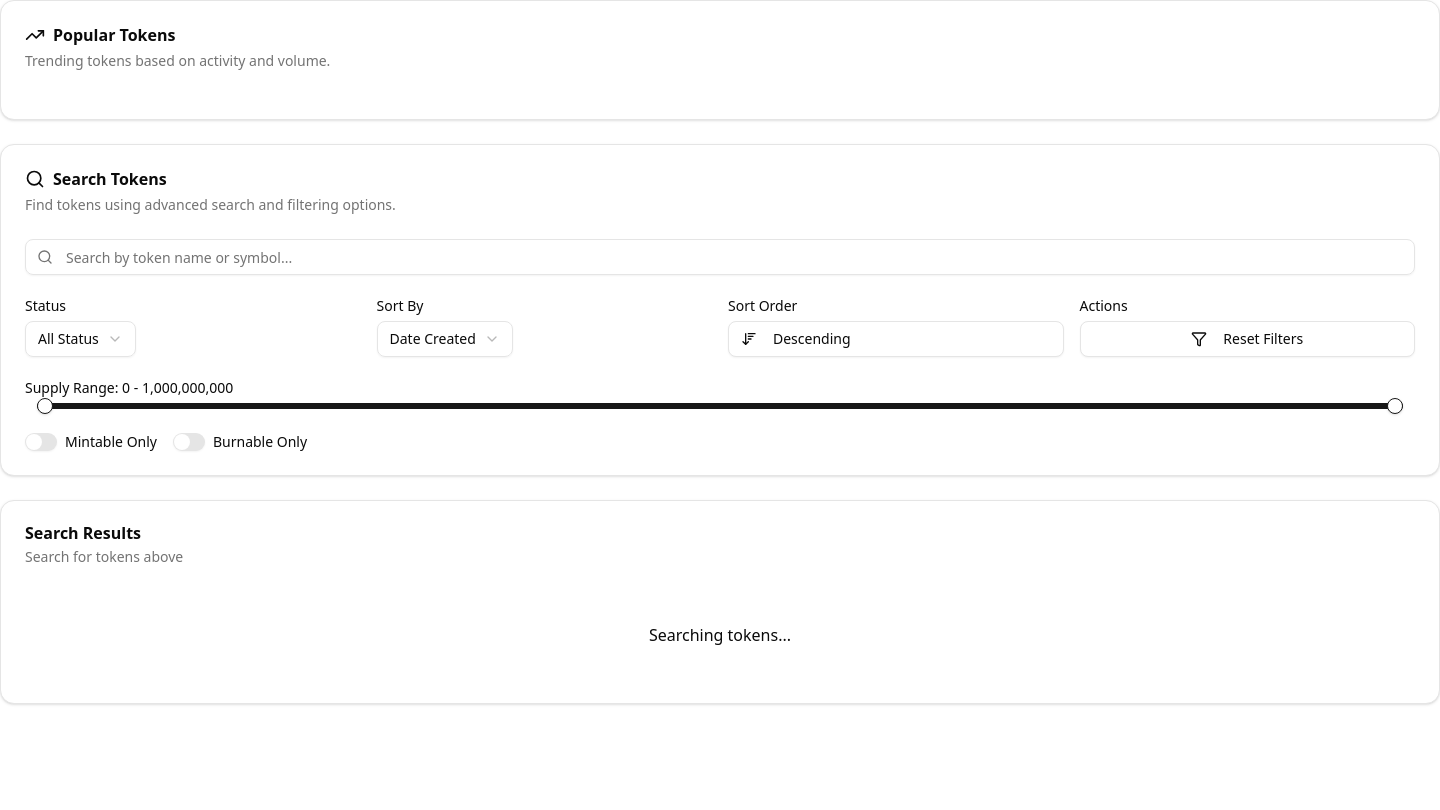
TokenSearch Component › should display search results
Type "Search" into the field with placeholder "Search by token name or symbol...". click: (720, 257)
box: [25,239,1415,275]
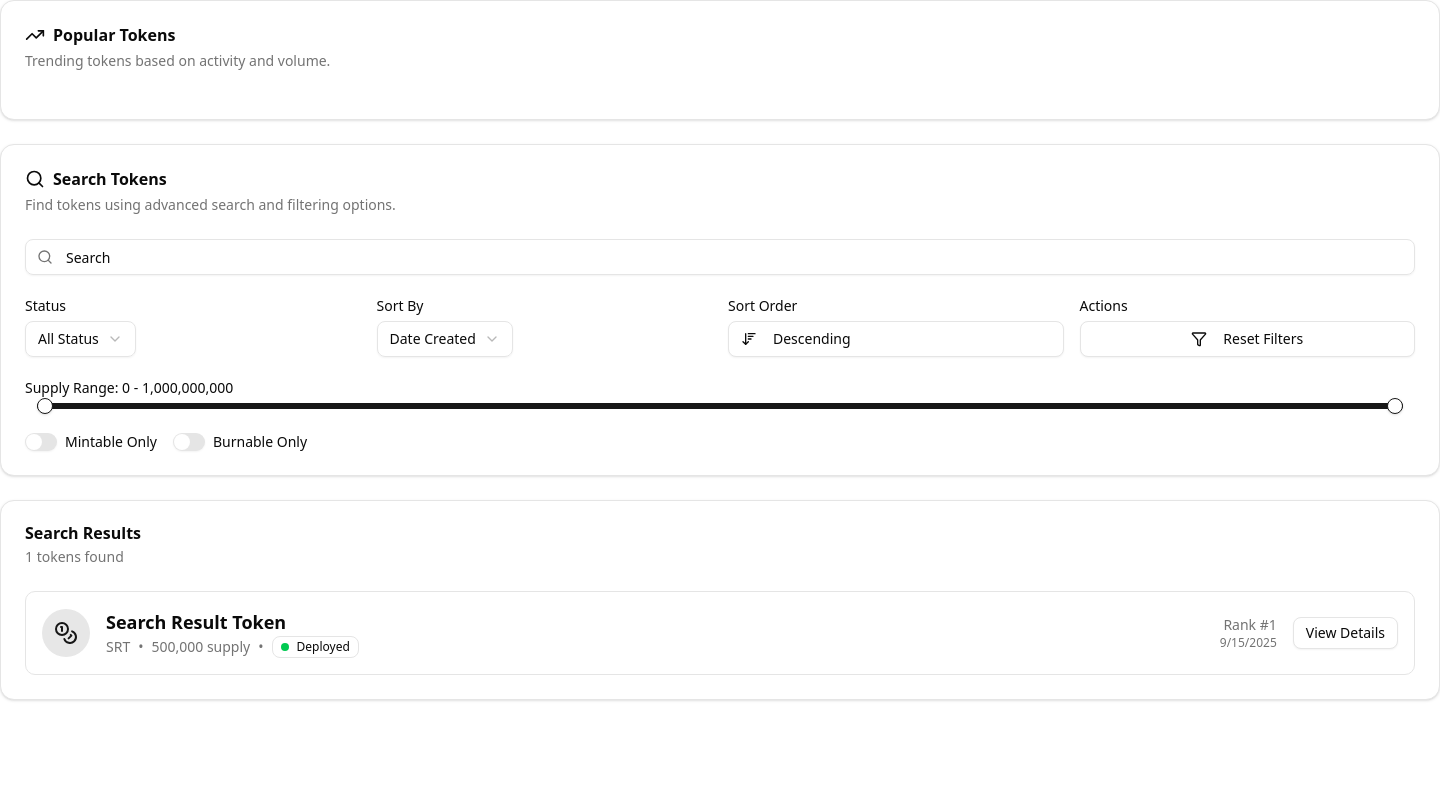
Expected: the text "1 tokens found" is shown, [25,547,124,566]
Expected: the heading "Search Result Token" is shown, [106,610,286,634]
Expected: the text "SRT" is shown, [106,637,130,657]
